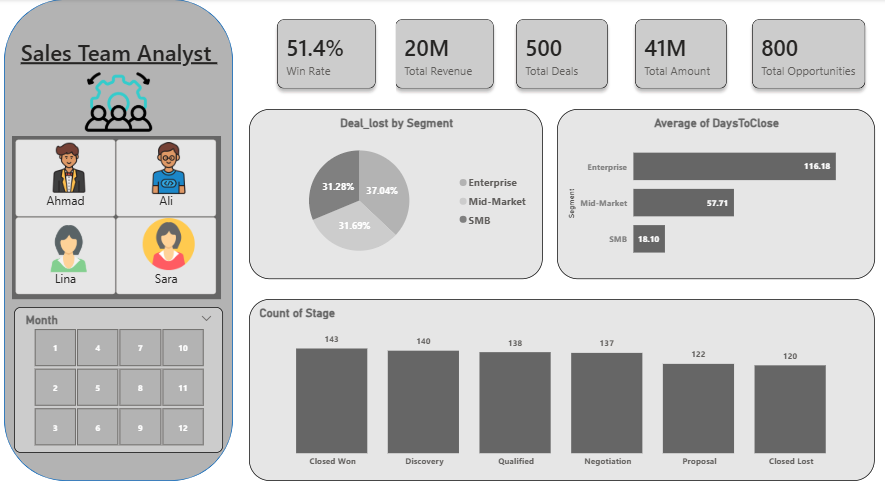

This screenshot's page, from the dashboard's own definition file:
{"tool":"powerbi","page":{"name":"The team","canvas":[1280,720],"ordinal":2},"visuals":[{"type":"shape","box":[10.1,0,329.8,694.1],"z":0},{"type":"textbox","box":[21.6,49,308.2,60.5],"z":1000},{"type":"advancedSlicerVisual","fields":{"Values":["Opportunities.SalesRep"]},"box":[21.6,197.3,301,234.7],"z":2000},{"type":"pieChart","fields":{"Category":["Deals.Segment"],"Y":["Deals.Deal_lost"]},"box":[362.9,158.4,423.4,244.8],"z":3000},{"type":"barChart","title":"Average of  DaysToClose ","fields":{"Category":["Deals.Segment"],"Y":["Avg(Deals.DaysToClose)"]},"box":[806.4,158.4,457.9,244.8],"z":4000},{"type":"clusteredColumnChart","title":"Count of Stage ","fields":{"Category":["Opportunities.Stage"],"Y":["CountNonNull(Opportunities.Stage)"]},"box":[362.9,432,901.4,262.1],"z":5000},{"type":"slicer","fields":{"Values":["Leads.Month"]},"box":[24.5,443.5,301,210.2],"z":6000},{"type":"cardVisual","fields":{"Data":["Opportunities.Total Amount"]},"box":[889.9,0,190.1,158.4],"z":7000},{"type":"cardVisual","fields":{"Data":["Opportunities.Total Opportunities"]},"box":[1058.4,0,221.8,158.4],"z":8000},{"type":"cardVisual","fields":{"Data":["Deals.Total Deals"]},"box":[718.6,0,190.1,158.4],"z":9000},{"type":"cardVisual","fields":{"Data":["Deals.Total Revenue"]},"box":[544.3,0,200.2,158.4],"z":10000},{"type":"cardVisual","fields":{"Data":["Deals.Win Rate"]},"box":[374.4,0,200.2,158.4],"z":11000},{"type":"image","box":[53.3,325.4,100.8,67.7],"z":12000},{"type":"image","box":[198.7,315.4,96.5,74.9],"z":13000},{"type":"image","box":[67.7,205.9,72,74.9],"z":14000},{"type":"image","box":[208.8,205.9,77.8,74.9],"z":15000},{"type":"image","box":[24.5,99.4,301,97.9],"z":16000}]}

Visuals, with their boxes in screenshot pixels (x1, y1, x2, y2), scaled from the page's 1280x720 canvas onto the 885x497 screenshot:
shape: {"left": 7, "top": 0, "right": 235, "bottom": 479}
textbox: {"left": 15, "top": 34, "right": 228, "bottom": 76}
advancedSlicerVisual - Opportunities.SalesRep: {"left": 15, "top": 136, "right": 223, "bottom": 298}
pieChart - Deals.Segment x Deals.Deal_lost: {"left": 251, "top": 109, "right": 544, "bottom": 278}
"Average of  DaysToClose " barChart: {"left": 558, "top": 109, "right": 874, "bottom": 278}
"Count of Stage " clusteredColumnChart: {"left": 251, "top": 298, "right": 874, "bottom": 479}
slicer - Leads.Month: {"left": 17, "top": 306, "right": 225, "bottom": 451}
cardVisual - Opportunities.Total Amount: {"left": 615, "top": 0, "right": 747, "bottom": 109}
cardVisual - Opportunities.Total Opportunities: {"left": 732, "top": 0, "right": 884, "bottom": 109}
cardVisual - Deals.Total Deals: {"left": 497, "top": 0, "right": 628, "bottom": 109}
cardVisual - Deals.Total Revenue: {"left": 376, "top": 0, "right": 515, "bottom": 109}
cardVisual - Deals.Win Rate: {"left": 259, "top": 0, "right": 397, "bottom": 109}
image: {"left": 37, "top": 225, "right": 107, "bottom": 271}
image: {"left": 137, "top": 218, "right": 204, "bottom": 269}
image: {"left": 47, "top": 142, "right": 97, "bottom": 194}
image: {"left": 144, "top": 142, "right": 198, "bottom": 194}
image: {"left": 17, "top": 69, "right": 225, "bottom": 136}
